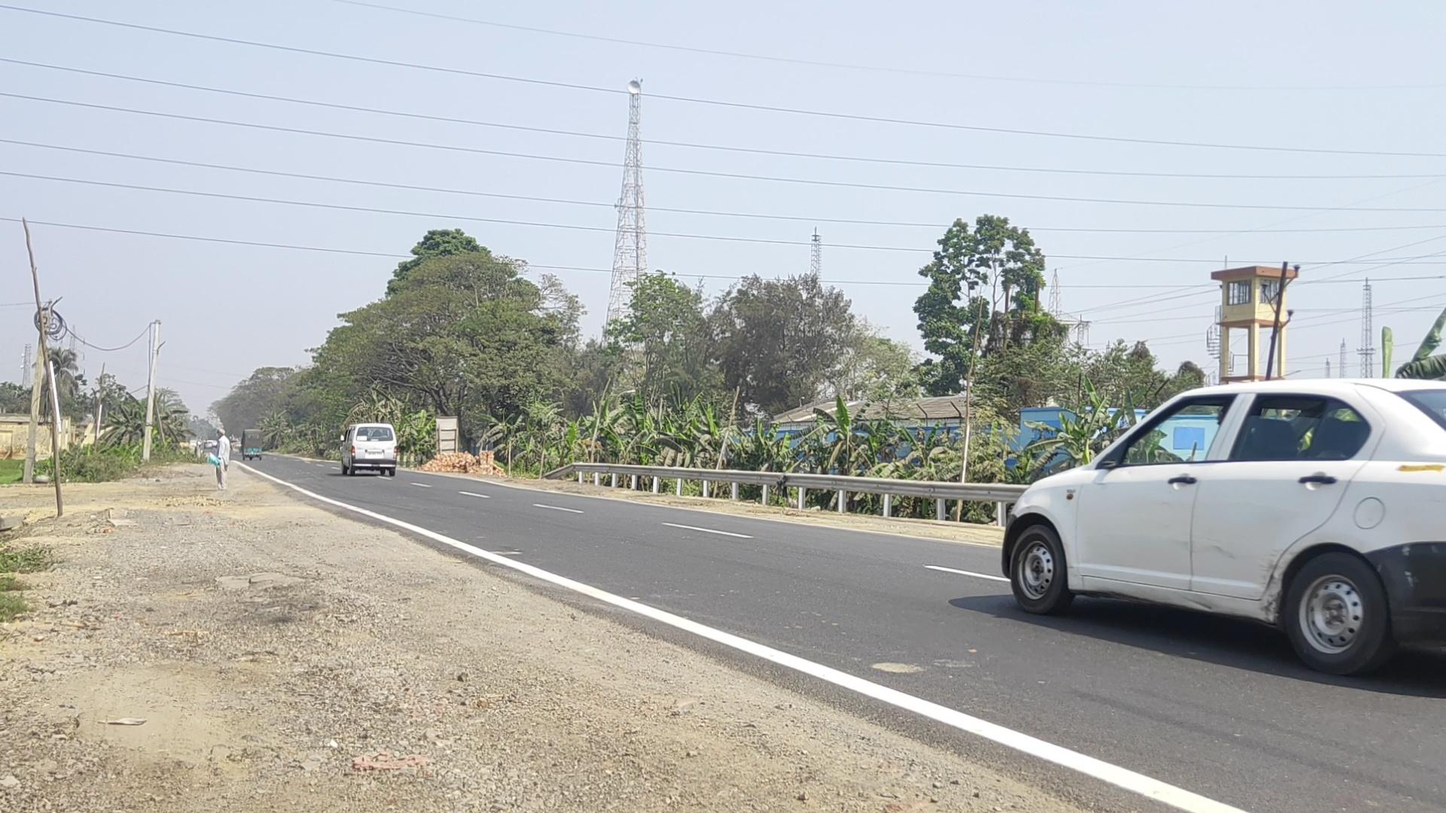Auto: (241, 428, 263, 461)
car: (1002, 378, 1446, 677)
van: (340, 423, 398, 475)
